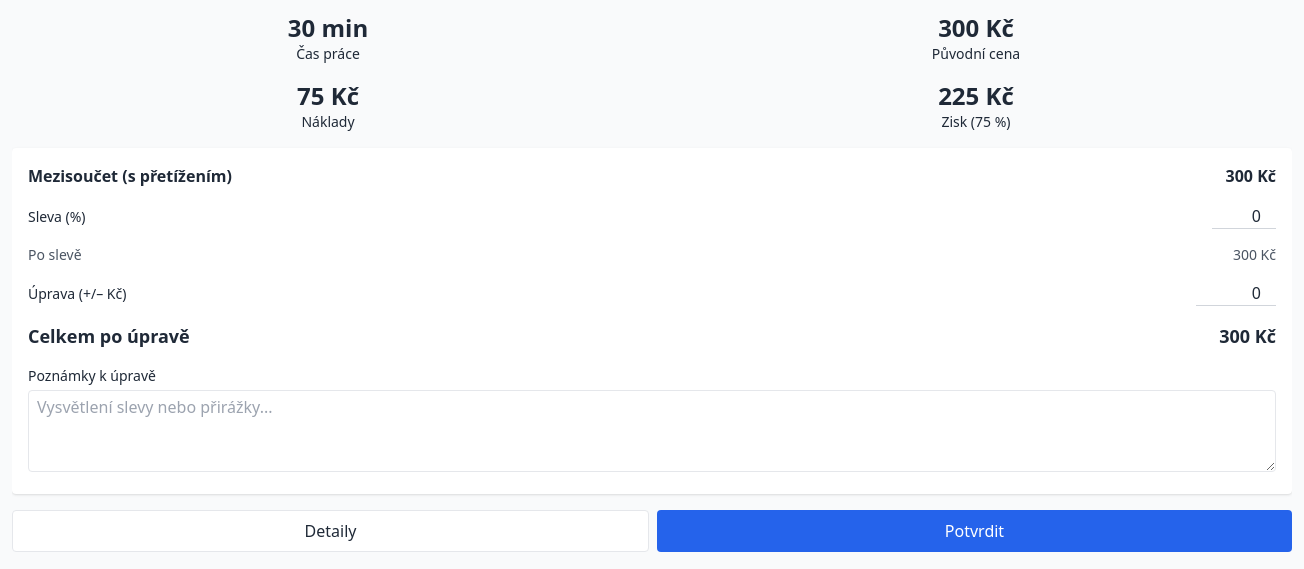
Test: ReportPanel › shows toast if storage unavailable
Click the button "Potvrdit": (974,531) 657,510 -> 1292,552
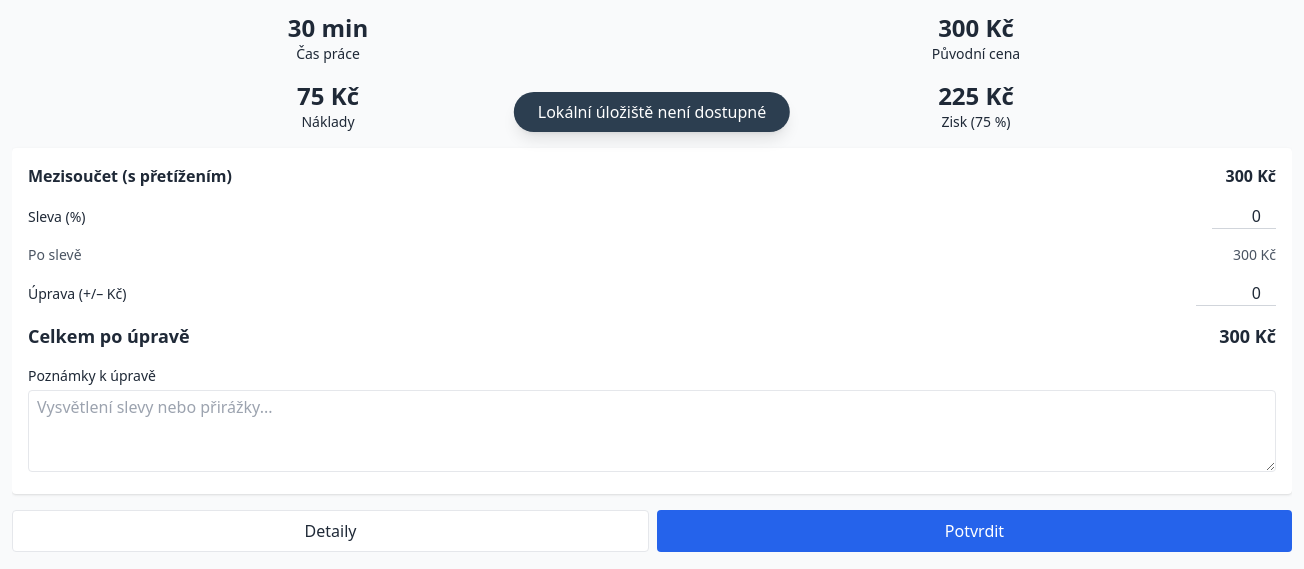
Check: the text "Lokální úložiště není dostupné" is shown, box 514,92 -> 790,132
